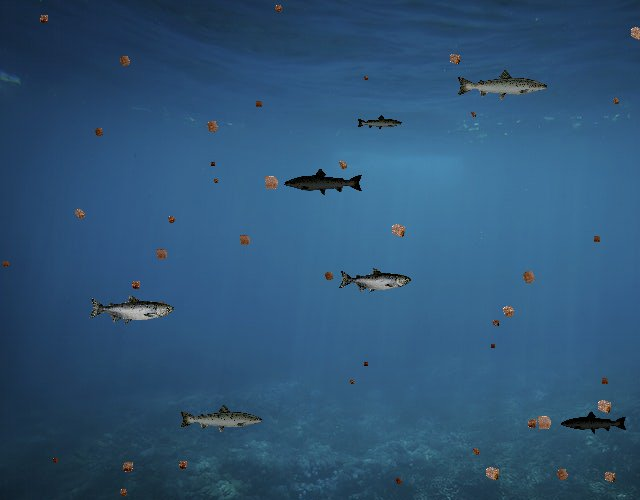Fish: (455, 69, 549, 102), (178, 403, 264, 434), (88, 294, 174, 325), (283, 167, 364, 197), (338, 268, 411, 294), (560, 410, 628, 434), (356, 115, 403, 132)
Pellet: (516, 264, 542, 290), (496, 299, 521, 324), (68, 203, 90, 225), (488, 316, 502, 330), (210, 176, 220, 186)
